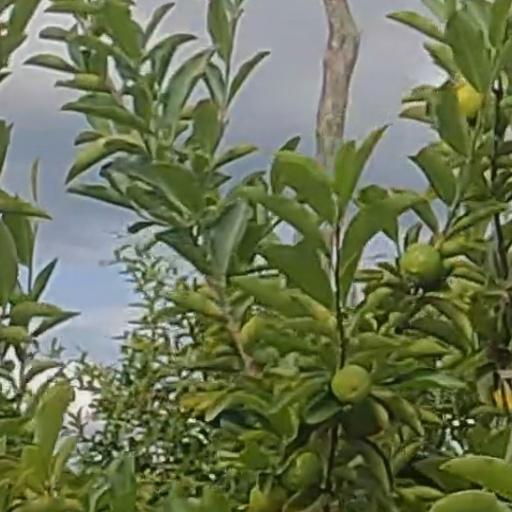acerola: (404, 244, 440, 286), (286, 452, 322, 491), (335, 365, 368, 406), (249, 486, 288, 509)
